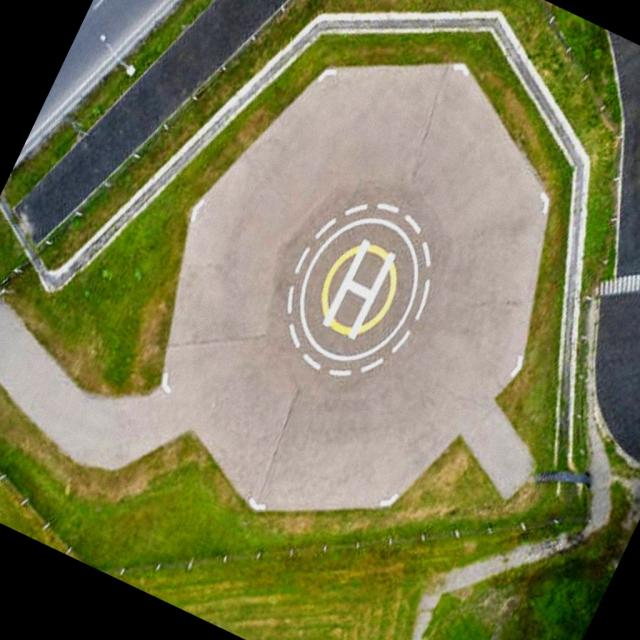helipad: (296, 214, 421, 362)
